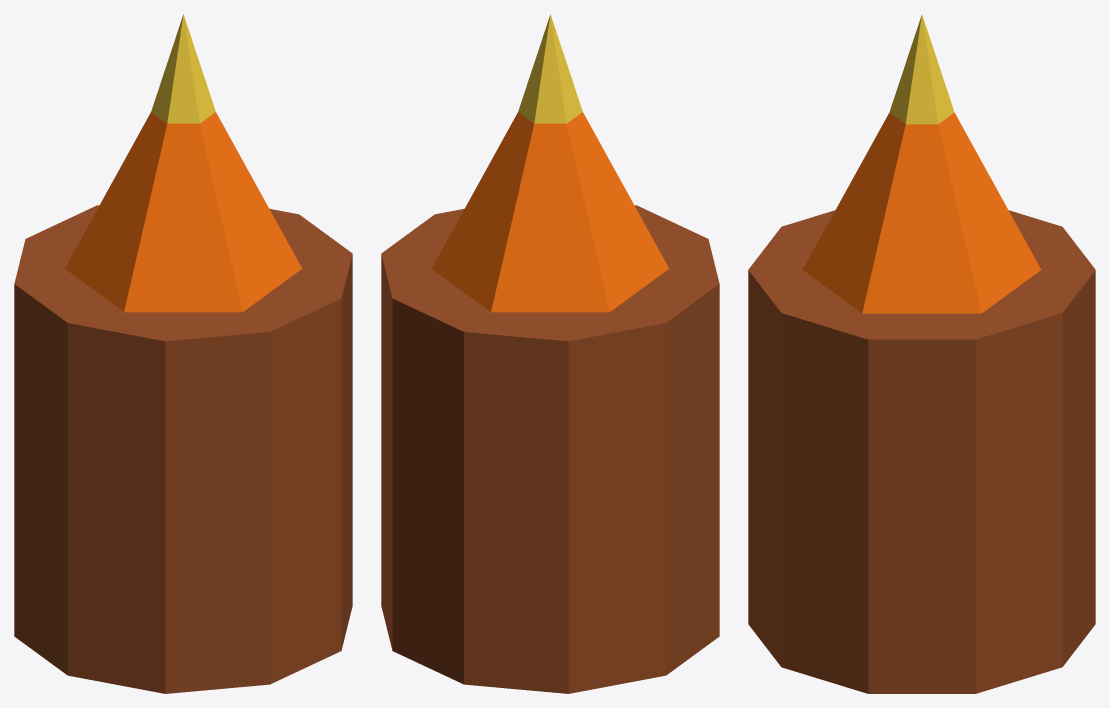
The model's file is burning_barrel.glb.
The picture shows the model from 3 angles, left to right: view 1: azimuth 30°, elevation 25°; view 2: azimuth 150°, elevation 25°; view 3: azimuth 270°, elevation 25°; orthographic projection.
Visible parts, largest first — view 1: burning_barrel; view 2: burning_barrel; view 3: burning_barrel.
Boxes of the visible parts, x1,y1,x2,y2 form: burning_barrel: (14, 14, 352, 693); burning_barrel: (381, 14, 719, 693); burning_barrel: (748, 15, 1095, 693).
Size of the model in its own units: 0.7608 by 1.55 by 0.8.
